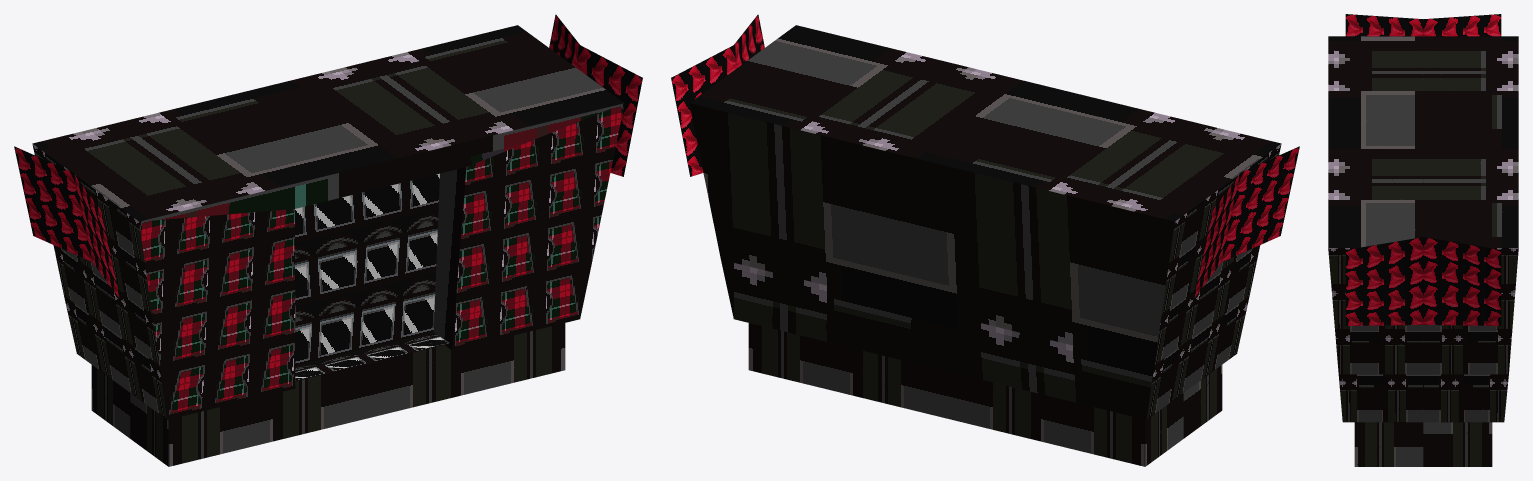
The model's file is 3838kg3_ser19.gltf.
3 views of the same model, side by side, from view 1: azimuth 30°, elevation 25°; view 2: azimuth 150°, elevation 25°; view 3: azimuth 270°, elevation 25° (orthographic). The views are drawn at different scales.
Parts seen in each view (by area): view 1: 3838kg3_ser19; view 2: 3838kg3_ser19; view 3: 3838kg3_ser19.
Boxes of the visible parts, x1,y1,x2,y2 form: 3838kg3_ser19: (14, 14, 642, 466); 3838kg3_ser19: (671, 14, 1299, 466); 3838kg3_ser19: (1328, 14, 1518, 466).
Size of the model in its own units: 2 by 0.9998 by 0.6816.
Materials: 4 (4 with a texture image).
